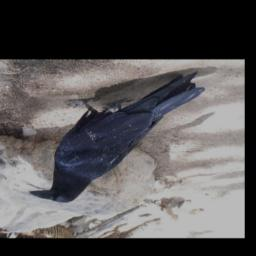Crow: (27, 70, 204, 204)
